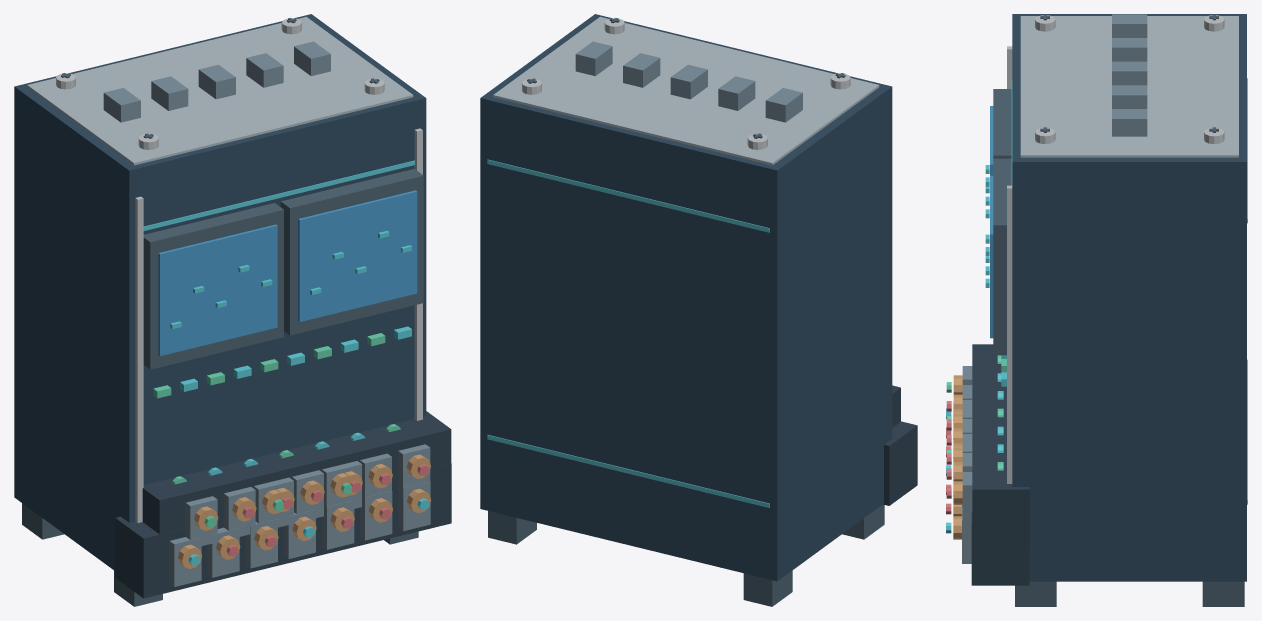
File: 55_L76_IndustrialAnalogIOModule.glb
The picture shows the model from 3 angles, left to right: view 1: azimuth 30°, elevation 25°; view 2: azimuth 150°, elevation 25°; view 3: azimuth 270°, elevation 25°; orthographic projection. The views are drawn at different scales.
Visible parts, largest first — view 1: IndustrialAnalogIOModule_Node_0000, IndustrialAnalogIOModule_Node_0007, IndustrialAnalogIOModule_Node_0025, IndustrialAnalogIOModule_Node_0032, IndustrialAnalogIOModule_Node_0049, IndustrialAnalogIOModule_Node_0024, IndustrialAnalogIOModule_Node_0031, IndustrialAnalogIOModule_Node_0086, IndustrialAnalogIOModule_Node_0106, IndustrialAnalogIOModule_Node_0096, IndustrialAnalogIOModule_Node_0005, IndustrialAnalogIOModule_Node_0023 (+20 smaller); view 2: IndustrialAnalogIOModule_Node_0000, IndustrialAnalogIOModule_Node_0007, IndustrialAnalogIOModule_Node_0049, IndustrialAnalogIOModule_Node_0022, IndustrialAnalogIOModule_Node_0020, IndustrialAnalogIOModule_Node_0045, IndustrialAnalogIOModule_Node_0047, IndustrialAnalogIOModule_Node_0082, IndustrialAnalogIOModule_Node_0083, IndustrialAnalogIOModule_Node_0084, IndustrialAnalogIOModule_Node_0085, IndustrialAnalogIOModule_Node_0081 (+1 smaller); view 3: IndustrialAnalogIOModule_Node_0000, IndustrialAnalogIOModule_Node_0007, IndustrialAnalogIOModule_Node_0106, IndustrialAnalogIOModule_Node_0049, IndustrialAnalogIOModule_Node_0031, IndustrialAnalogIOModule_Node_0086, IndustrialAnalogIOModule_Node_0006, IndustrialAnalogIOModule_Node_0024, IndustrialAnalogIOModule_Node_0047, IndustrialAnalogIOModule_Node_0048, IndustrialAnalogIOModule_Node_0085, IndustrialAnalogIOModule_Node_0083 (+6 smaller).
Boxes of the visible parts, x1=… form: IndustrialAnalogIOModule_Node_0000: x1=14, y1=14, x2=426, y2=570; IndustrialAnalogIOModule_Node_0007: x1=27, y1=17, x2=413, y2=165; IndustrialAnalogIOModule_Node_0025: x1=158, y1=224, x2=277, y2=355; IndustrialAnalogIOModule_Node_0032: x1=298, y1=190, x2=417, y2=321; IndustrialAnalogIOModule_Node_0049: x1=115, y1=463, x2=451, y2=598; IndustrialAnalogIOModule_Node_0024: x1=143, y1=203, x2=283, y2=369; IndustrialAnalogIOModule_Node_0031: x1=280, y1=169, x2=423, y2=335; IndustrialAnalogIOModule_Node_0086: x1=142, y1=448, x2=314, y2=534; IndustrialAnalogIOModule_Node_0106: x1=291, y1=411, x2=451, y2=477; IndustrialAnalogIOModule_Node_0096: x1=216, y1=436, x2=383, y2=492; IndustrialAnalogIOModule_Node_0005: x1=135, y1=196, x2=143, y2=522; IndustrialAnalogIOModule_Node_0023: x1=143, y1=160, x2=414, y2=230; IndustrialAnalogIOModule_Node_0000: x1=480, y1=14, x2=892, y2=581; IndustrialAnalogIOModule_Node_0007: x1=493, y1=17, x2=879, y2=165; IndustrialAnalogIOModule_Node_0049: x1=883, y1=421, x2=917, y2=505; IndustrialAnalogIOModule_Node_0022: x1=487, y1=159, x2=769, y2=232; IndustrialAnalogIOModule_Node_0020: x1=487, y1=435, x2=769, y2=507; IndustrialAnalogIOModule_Node_0045: x1=743, y1=570, x2=792, y2=606; IndustrialAnalogIOModule_Node_0047: x1=488, y1=511, x2=536, y2=544; IndustrialAnalogIOModule_Node_0082: x1=718, y1=76, x2=755, y2=110; IndustrialAnalogIOModule_Node_0083: x1=670, y1=64, x2=707, y2=99; IndustrialAnalogIOModule_Node_0084: x1=623, y1=53, x2=660, y2=87; IndustrialAnalogIOModule_Node_0085: x1=575, y1=41, x2=612, y2=76; IndustrialAnalogIOModule_Node_0081: x1=765, y1=88, x2=802, y2=122; IndustrialAnalogIOModule_Node_0000: x1=1012, y1=14, x2=1246, y2=581; IndustrialAnalogIOModule_Node_0007: x1=1020, y1=16, x2=1238, y2=157; IndustrialAnalogIOModule_Node_0106: x1=972, y1=421, x2=1029, y2=550; IndustrialAnalogIOModule_Node_0049: x1=971, y1=511, x2=1029, y2=585; IndustrialAnalogIOModule_Node_0031: x1=993, y1=158, x2=1011, y2=355; IndustrialAnalogIOModule_Node_0086: x1=972, y1=344, x2=1006, y2=421; IndustrialAnalogIOModule_Node_0006: x1=1007, y1=185, x2=1012, y2=483; IndustrialAnalogIOModule_Node_0024: x1=993, y1=89, x2=1011, y2=158; IndustrialAnalogIOModule_Node_0047: x1=1202, y1=581, x2=1244, y2=606; IndustrialAnalogIOModule_Node_0048: x1=1015, y1=581, x2=1056, y2=606; IndustrialAnalogIOModule_Node_0085: x1=1112, y1=109, x2=1147, y2=136; IndustrialAnalogIOModule_Node_0083: x1=1112, y1=61, x2=1147, y2=85.
Size of the model in its own units: 1.13 by 1.61 by 0.9392.
